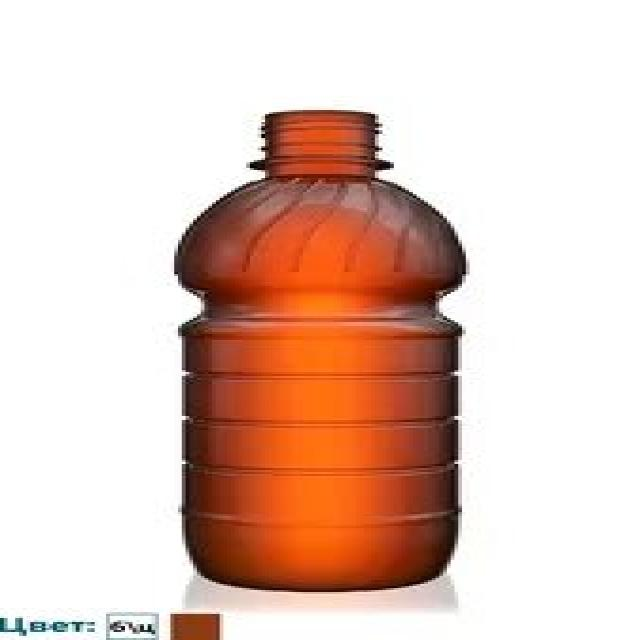brown: (174, 108, 470, 590)
